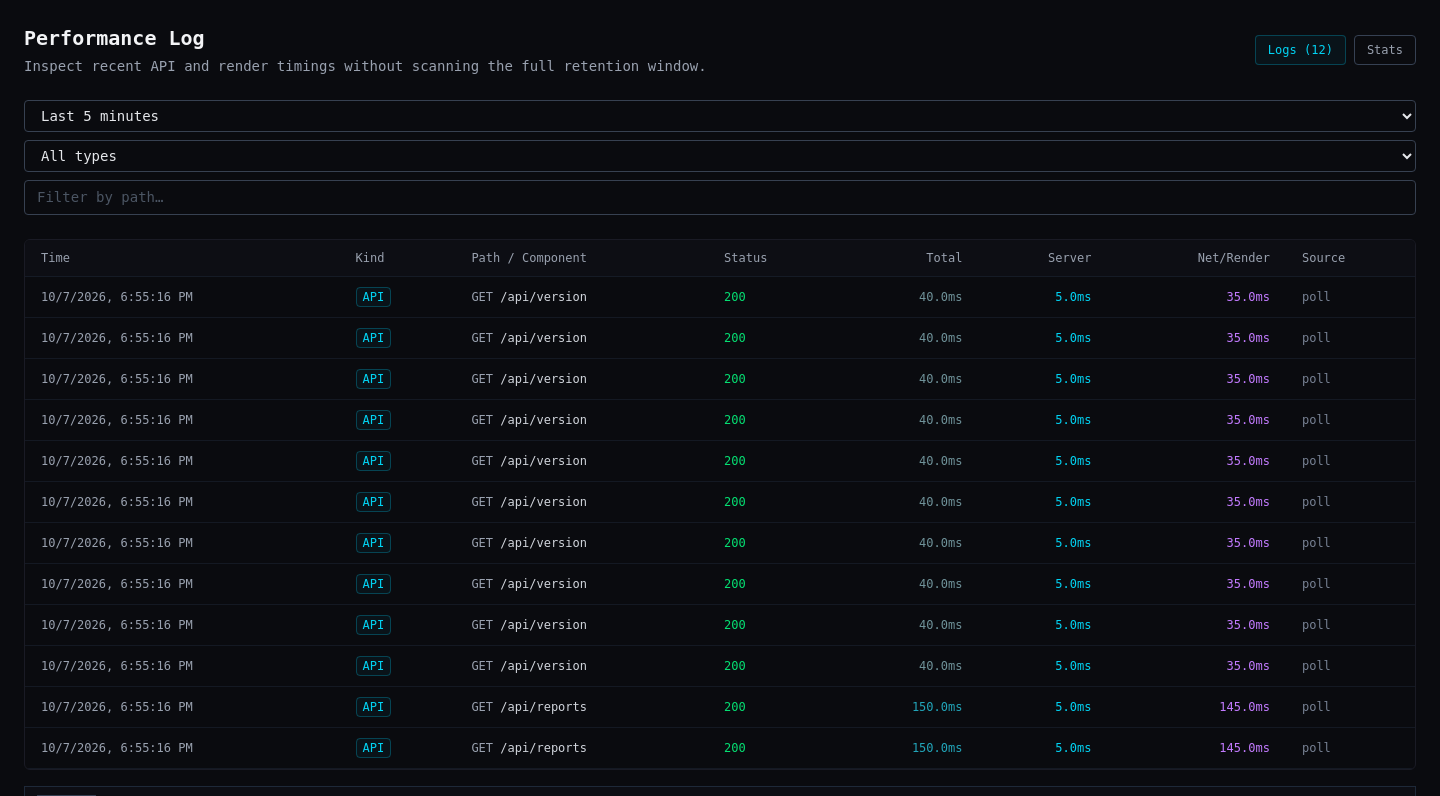
Test: PerfLogPage statistics emphasis › ranks endpoints by total time contributed, not by average
The width and height of the screenshot is (1440, 796).
Click the tab "Stats": coordinates (1385, 50) [1354,35,1416,65]
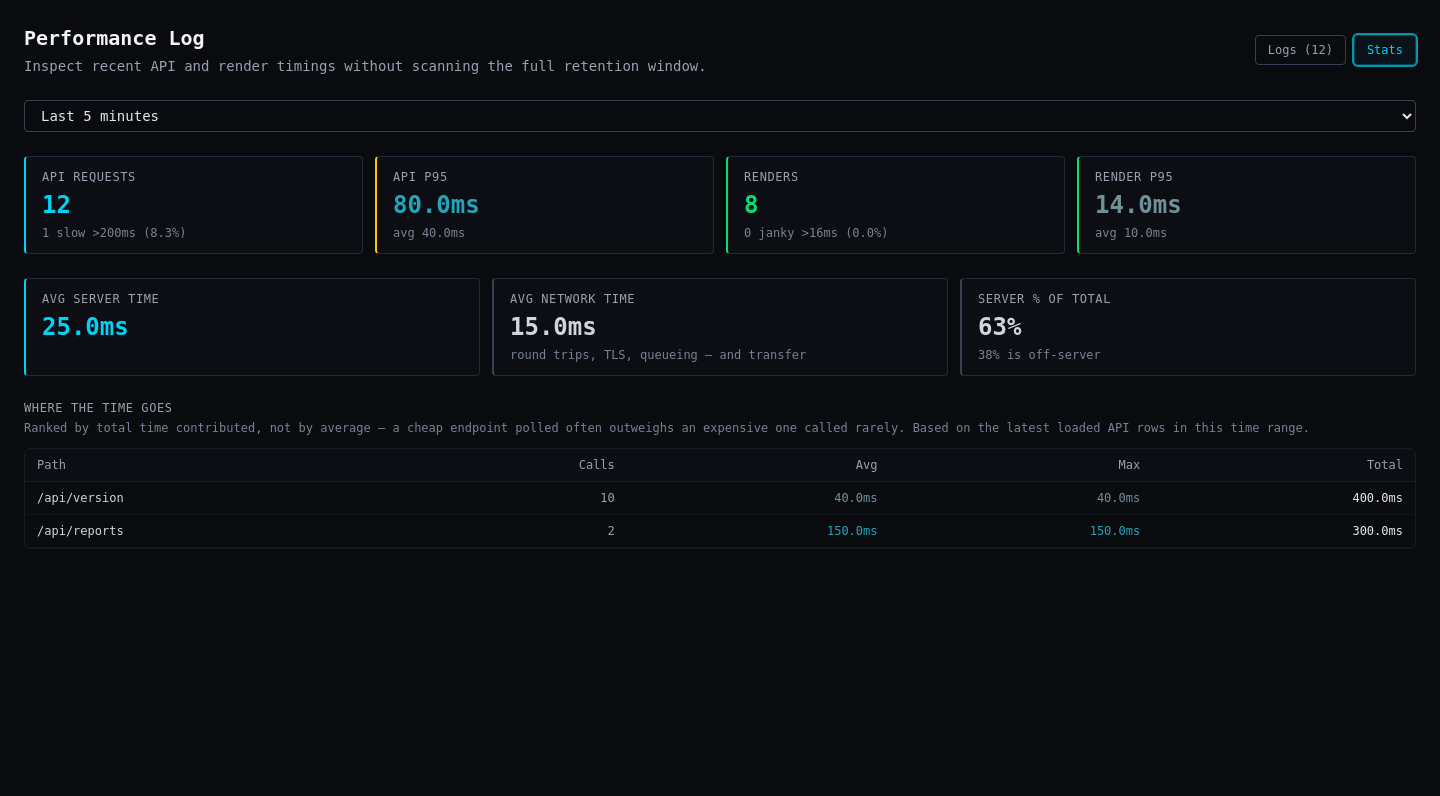
Check: the cell "/api/version" is shown, box [25,482,415,514]
Check: the table shows "400.0ms", box [1352,491,1403,505]
